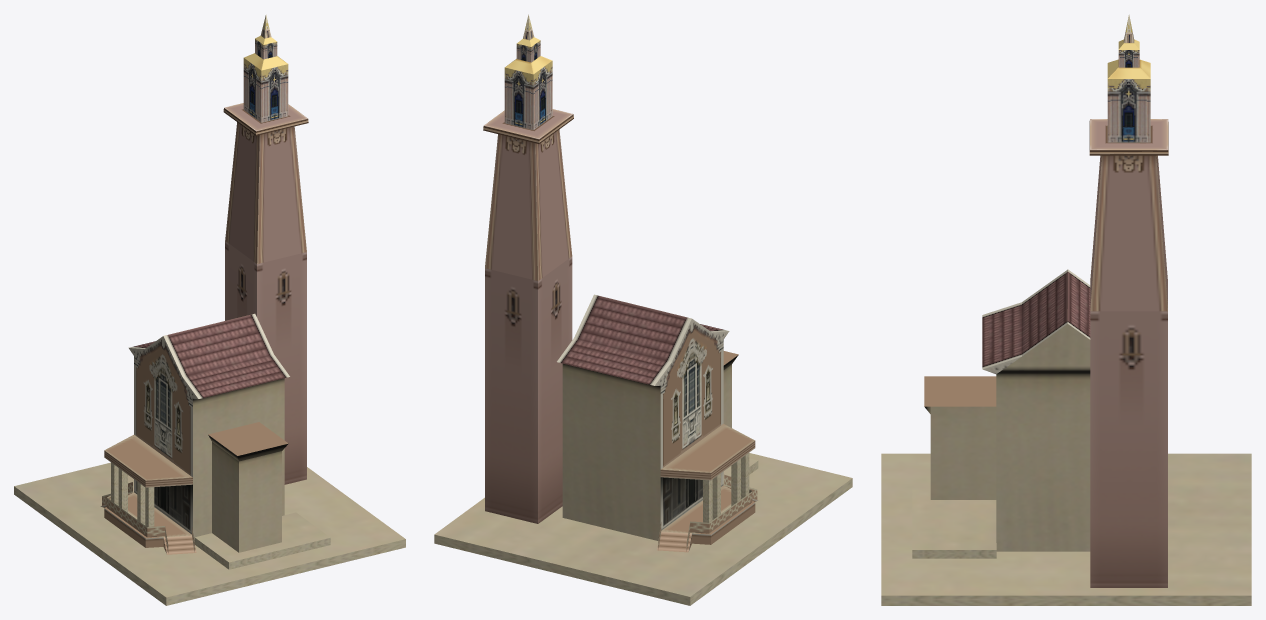
The model's file is ChurchTower.fbx.
3 views of the same model, side by side, from view 1: azimuth 30°, elevation 25°; view 2: azimuth 150°, elevation 25°; view 3: azimuth 270°, elevation 25° (orthographic). The views are drawn at different scales.
Parts seen in each view (by area): view 1: ChurchTower1; view 2: ChurchTower1; view 3: ChurchTower1.
Boxes of the visible parts, box(x1,y1,x2,y2) form: ChurchTower1: box(14, 14, 405, 605); ChurchTower1: box(434, 14, 852, 605); ChurchTower1: box(881, 14, 1251, 605).
Bounding box in the file's own units: 6.04 × 11.29 × 6.65.
